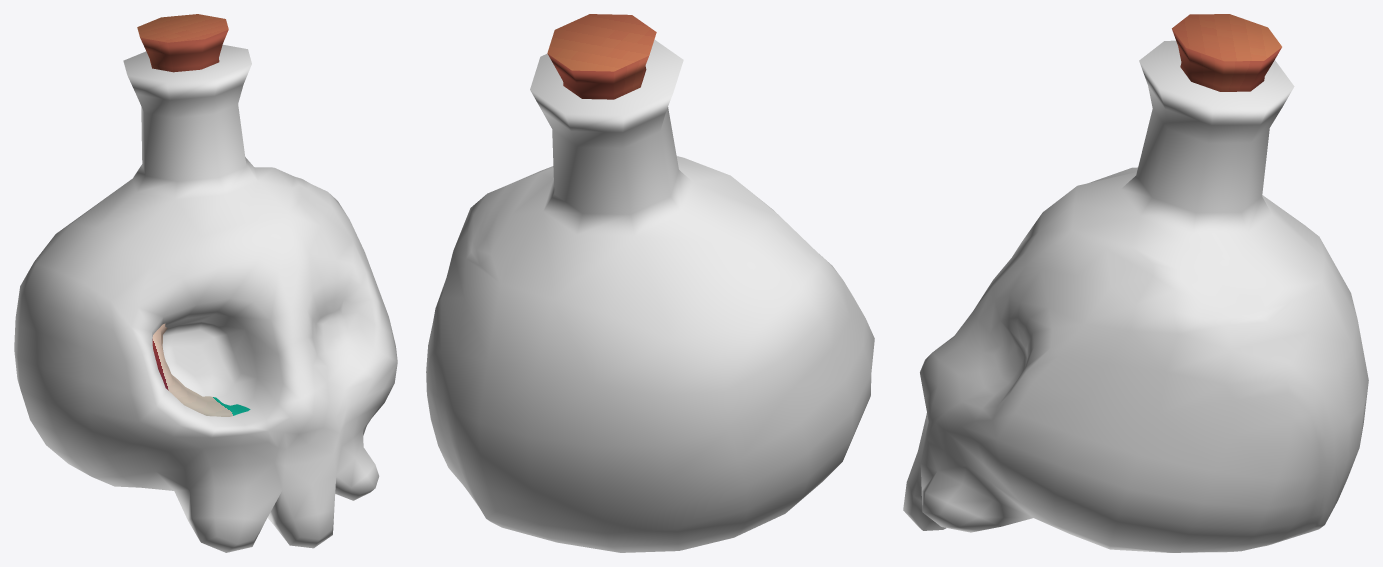
The model's file is SkullBottle.glb.
The picture shows the model from 3 angles, left to right: view 1: azimuth 30°, elevation 25°; view 2: azimuth 150°, elevation 25°; view 3: azimuth 270°, elevation 25°; orthographic projection. The views are drawn at different scales.
Visible parts, largest first — view 1: SkullGlass, Extra, Liquid; view 2: SkullGlass, Extra; view 3: SkullGlass, Extra.
Part boxes in pixels (x1,y1,x2,y2): SkullGlass: [14, 44, 397, 552]; Extra: [137, 14, 228, 72]; Liquid: [152, 323, 250, 416]; SkullGlass: [426, 39, 874, 552]; Extra: [547, 14, 656, 99]; SkullGlass: [903, 40, 1368, 552]; Extra: [1172, 14, 1281, 91].
Size of the model in its own units: 14.66 by 18.28 by 15.42.
Materials: 3 (1 with a texture image).
